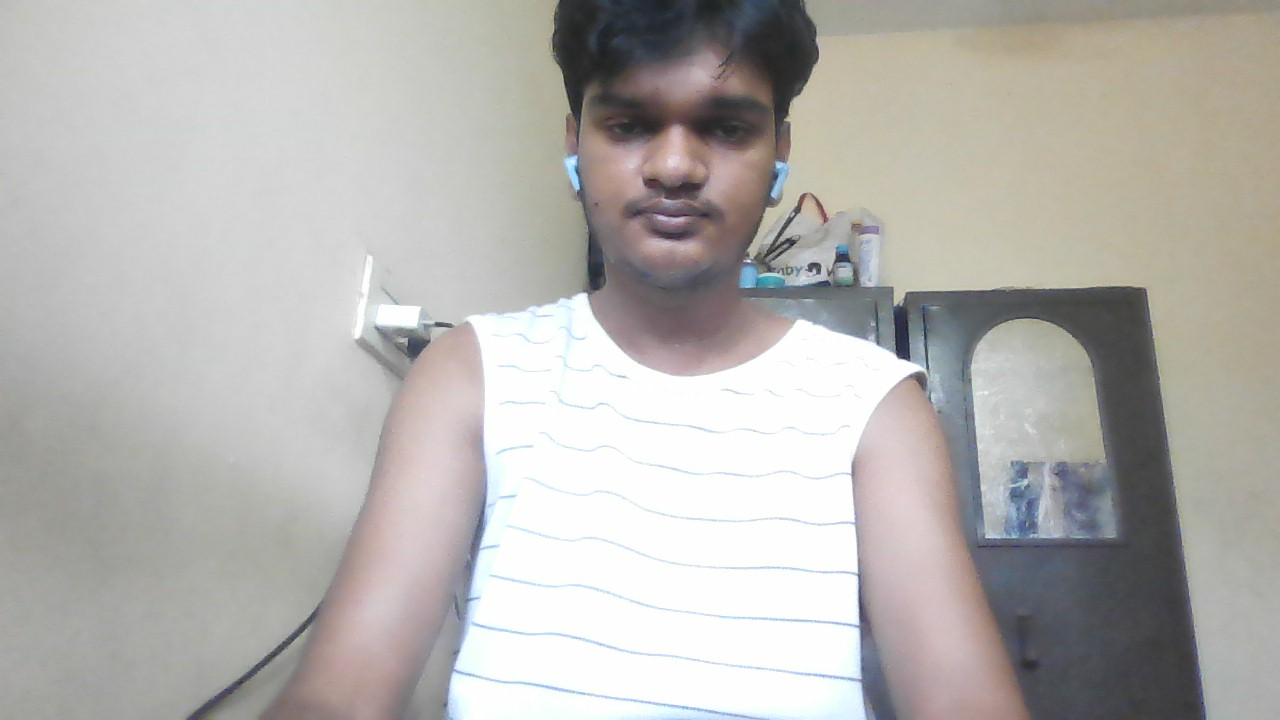earphone: (565, 153, 583, 193), (773, 158, 791, 198)
